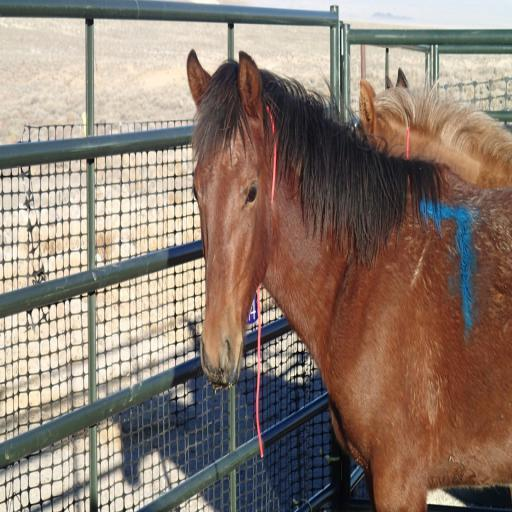horse: (184, 44, 512, 512), (354, 74, 512, 192), (384, 64, 410, 89)
